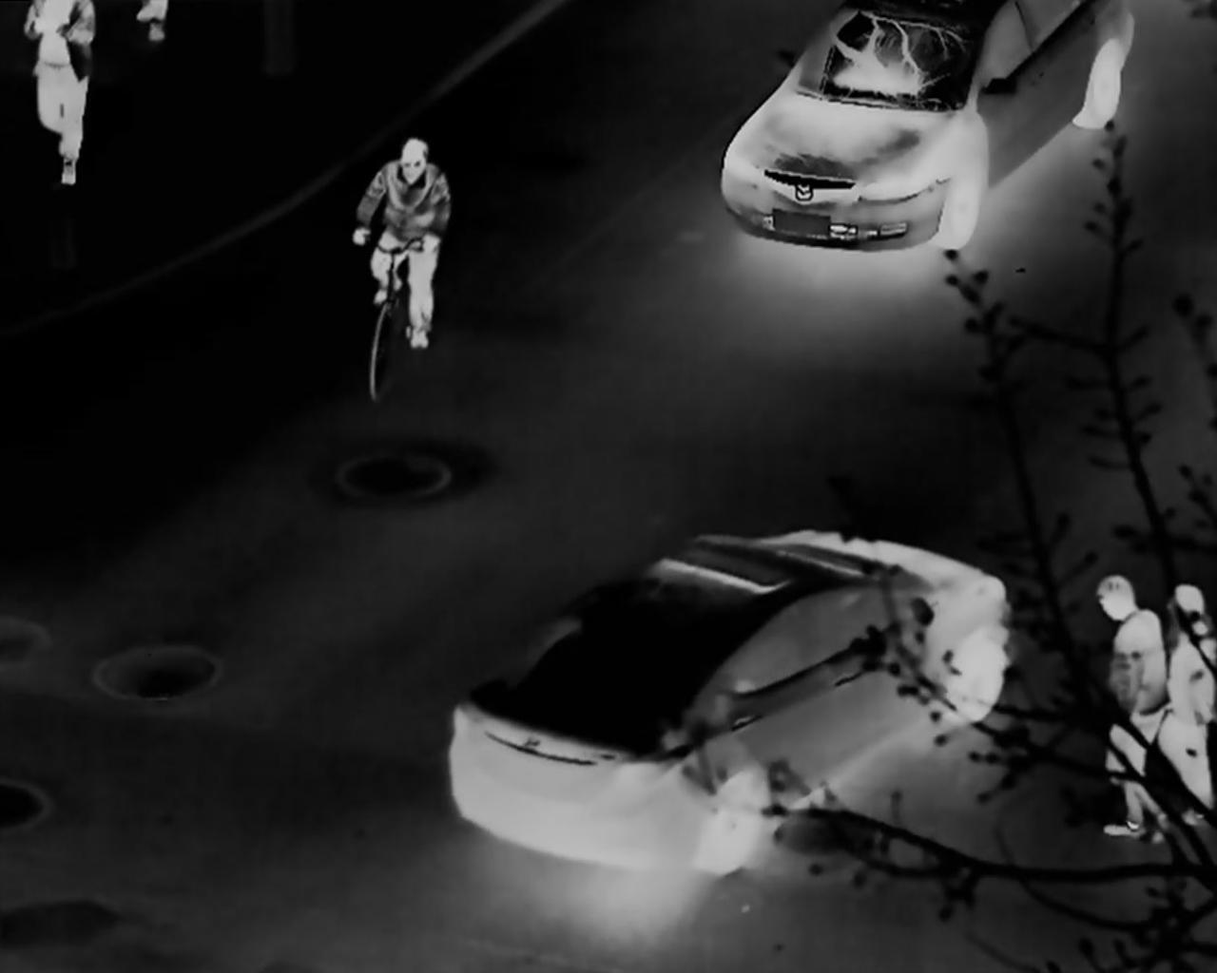person: (351, 130, 453, 353), (1091, 573, 1173, 844), (1159, 583, 1217, 827), (21, 3, 95, 188)
